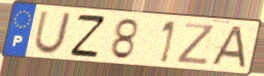1: (159, 20, 178, 64)
8: (110, 17, 140, 61)
A: (207, 25, 248, 70)
U: (31, 10, 74, 57)
Z: (175, 21, 217, 66), (68, 13, 108, 58)
